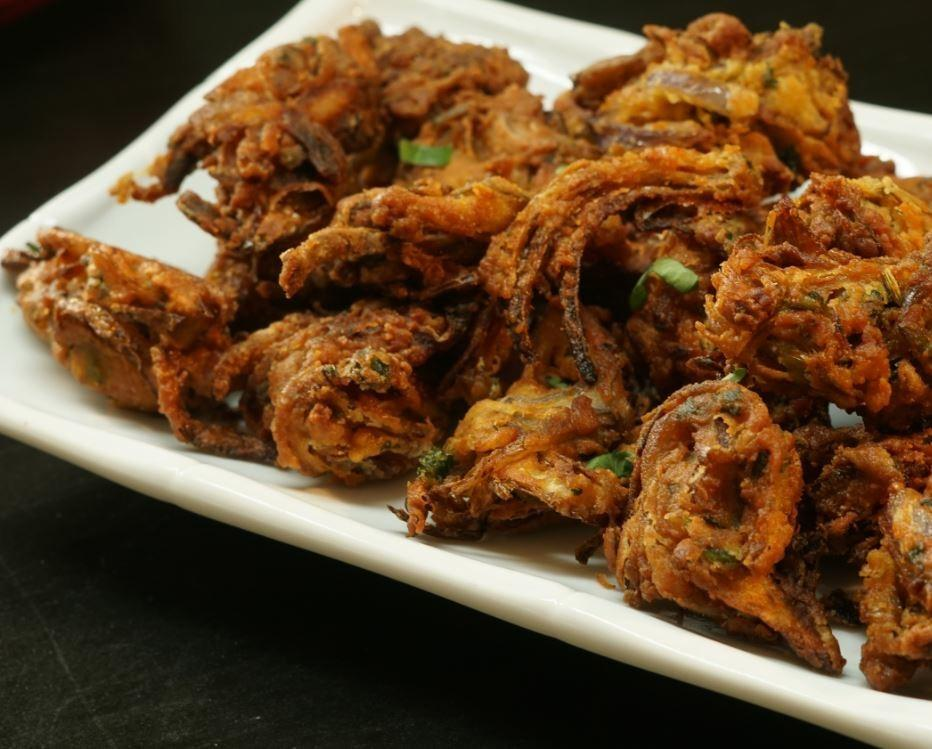OnionPakoda: (3, 15, 932, 700)
